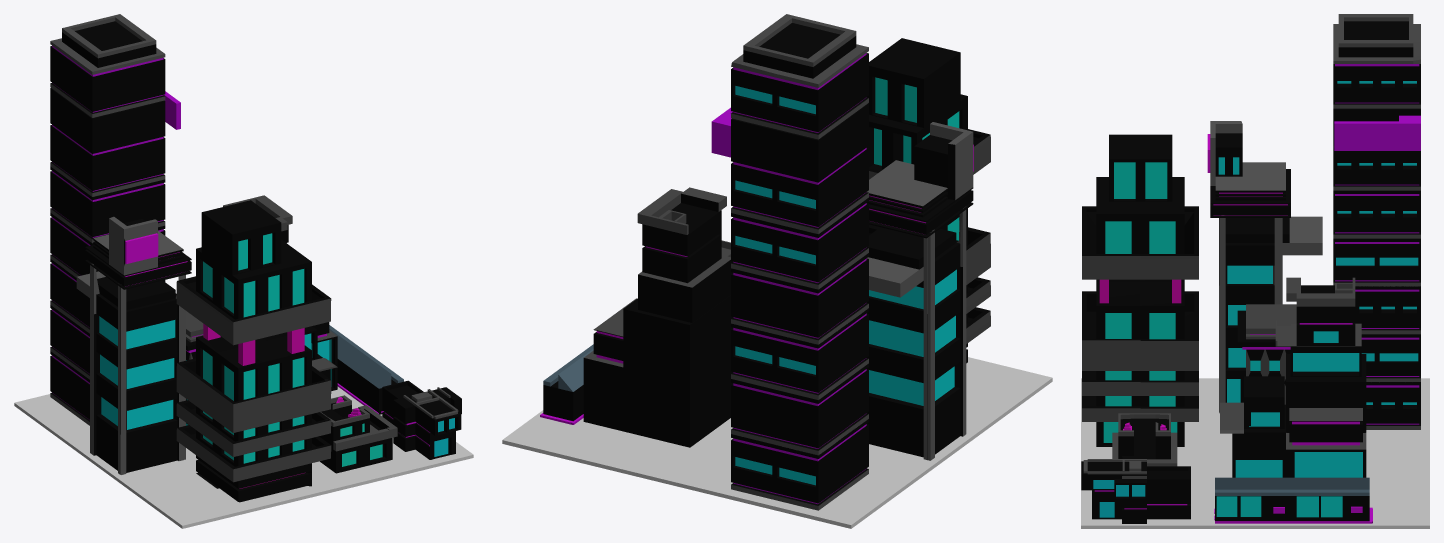
The model's file is Building Block.fbx.
3 renders of one model, left to right at view 1: azimuth 30°, elevation 25°; view 2: azimuth 150°, elevation 25°; view 3: azimuth 270°, elevation 25°, orthographic. The views are drawn at different scales.
Parts seen in each view (by area): view 1: Building 5 (×4), Building 8 (×3), Building 7 (×4), Floor, Building 1 (×2), Building 4 (×2), Building 2 (×2), Building 3 (×2); view 2: Building 8 (×4), Building 7 (×3), Building 3 (×2), Floor, Building 5 (×3), Building 2 (×2); view 3: Building 8 (×4), Building 5 (×4), Building 3 (×4), Building 7 (×4), Floor, Building 2 (×4), Building 1 (×3), Building 6 (×2), Building 4 (×2).
Part boxes in pixels (<box>): Building 5 (×4): <box>176,200,331,502</box>; Building 8 (×3): <box>50,14,180,425</box>; Building 7 (×4): <box>76,216,191,474</box>; Floor: <box>14,386,473,528</box>; Building 1 (×2): <box>382,380,461,459</box>; Building 4 (×2): <box>319,395,397,473</box>; Building 2 (×2): <box>329,325,403,414</box>; Building 3 (×2): <box>223,195,337,390</box>; Building 8 (×4): <box>711,14,868,510</box>; Building 7 (×3): <box>867,122,973,460</box>; Building 3 (×2): <box>583,187,733,447</box>; Floor: <box>502,357,1052,528</box>; Building 5 (×3): <box>867,38,990,363</box>; Building 2 (×2): <box>543,344,593,424</box>; Building 8 (×4): <box>1333,14,1420,429</box>; Building 5 (×4): <box>1082,134,1198,446</box>; Building 3 (×4): <box>1220,277,1366,477</box>; Building 7 (×4): <box>1207,121,1322,413</box>; Floor: <box>1081,378,1429,528</box>; Building 2 (×4): <box>1214,477,1372,523</box>; Building 1 (×3): <box>1081,456,1190,523</box>; Building 6 (×2): <box>1237,304,1296,404</box>; Building 4 (×2): <box>1112,413,1177,466</box>.
Size of the model in its own units: 4313 by 5212 by 4252.
